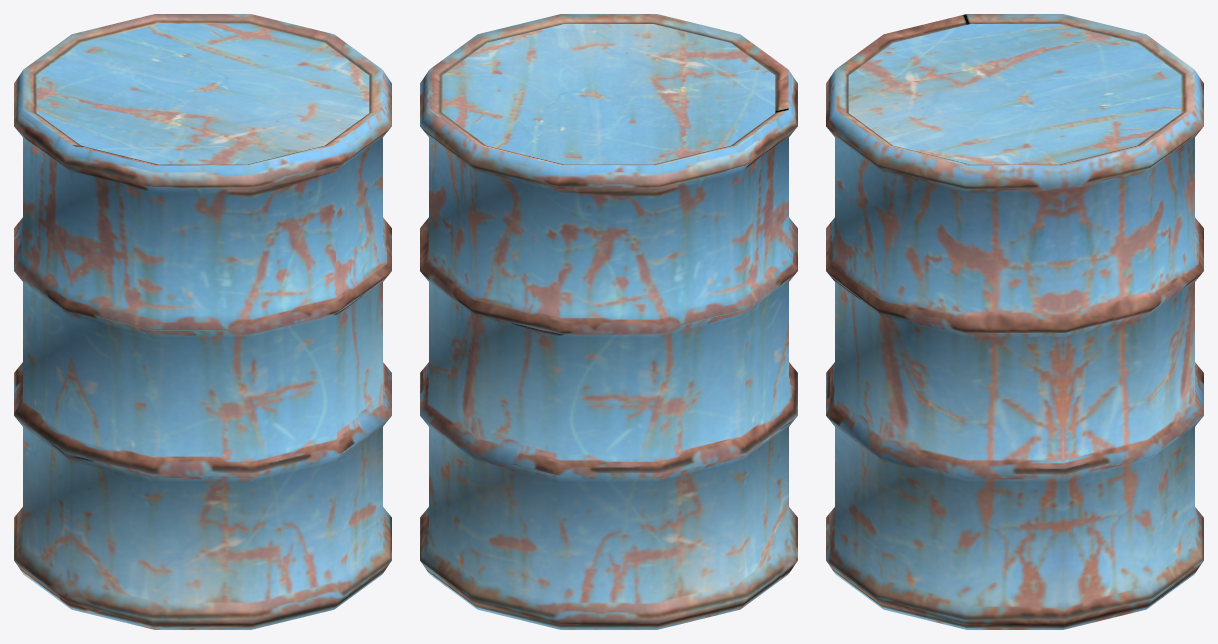
File: barrel.gltf
3 renders of one model, left to right at view 1: azimuth 30°, elevation 25°; view 2: azimuth 150°, elevation 25°; view 3: azimuth 270°, elevation 25°, orthographic.
Parts seen in each view (by area): view 1: ROOT; view 2: ROOT; view 3: ROOT.
Boxes of the visible parts, left/top/right/bottom form: ROOT: left=14, top=14, right=391, bottom=629; ROOT: left=420, top=14, right=797, bottom=629; ROOT: left=826, top=14, right=1203, bottom=629.
Size of the model in its own units: 1.25 by 1.69 by 1.25.
Materials: 1 (1 with a texture image).
